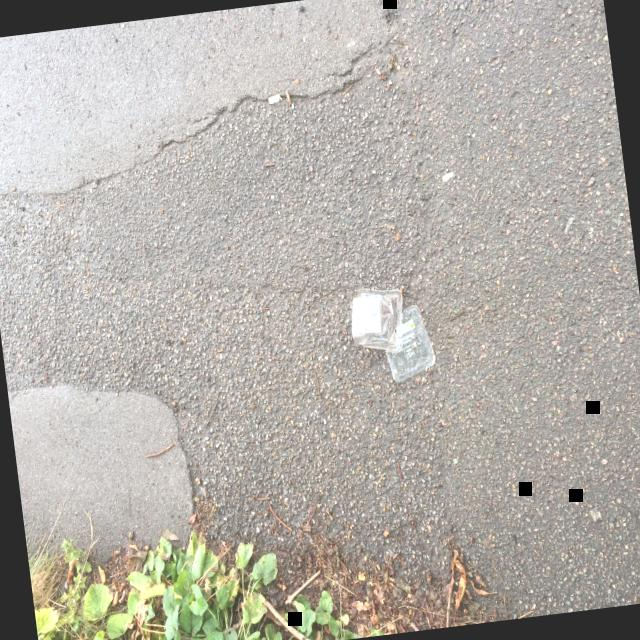Cigarette: (267, 94, 282, 105)
Disposable food container: (350, 287, 401, 352)
Plastic film: (383, 304, 434, 382)
